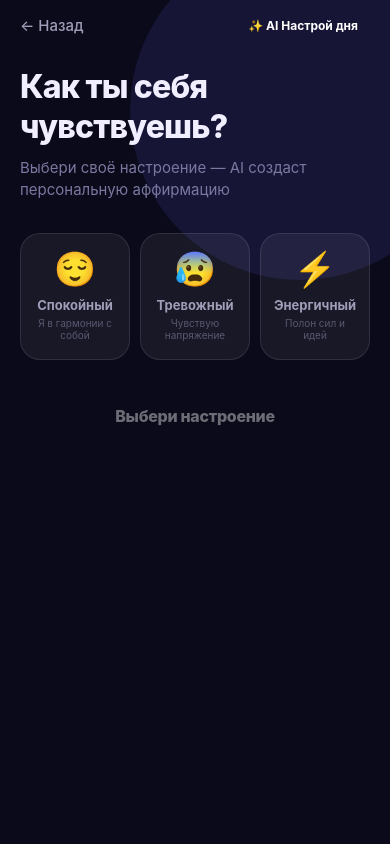
AIMoodScreen › показывает аффирмацию после успешной генерации
Click the element with test id "mood-anxious".
click(195, 296)  # box [140,233,250,360]
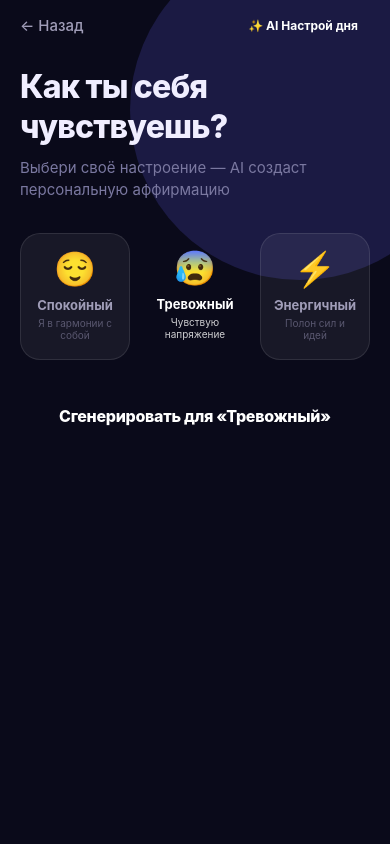
Click the element with test id "generate-button".
click(195, 416)  # box [59,406,331,426]
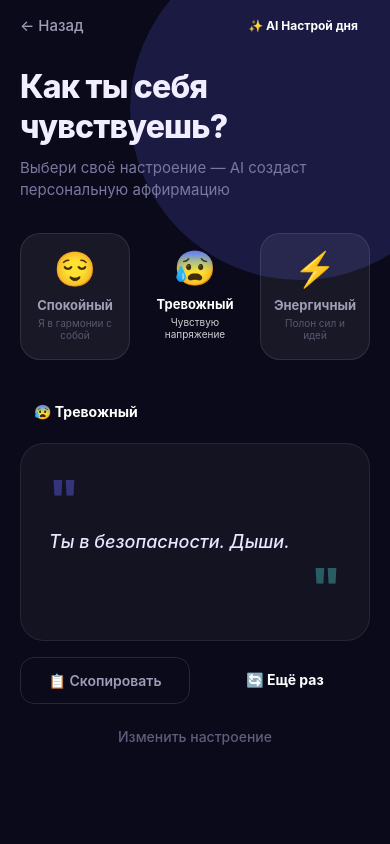
Expected: the element with test id "result-card" is shown, [20,396,370,753]
Expected: the text "Ты в безопасности. Дыши." is shown, [49,531,290,552]
